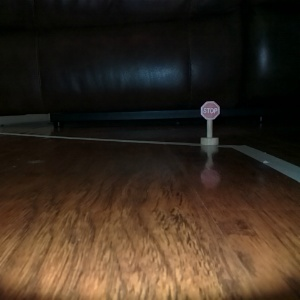stop sign: (198, 99, 221, 149)
